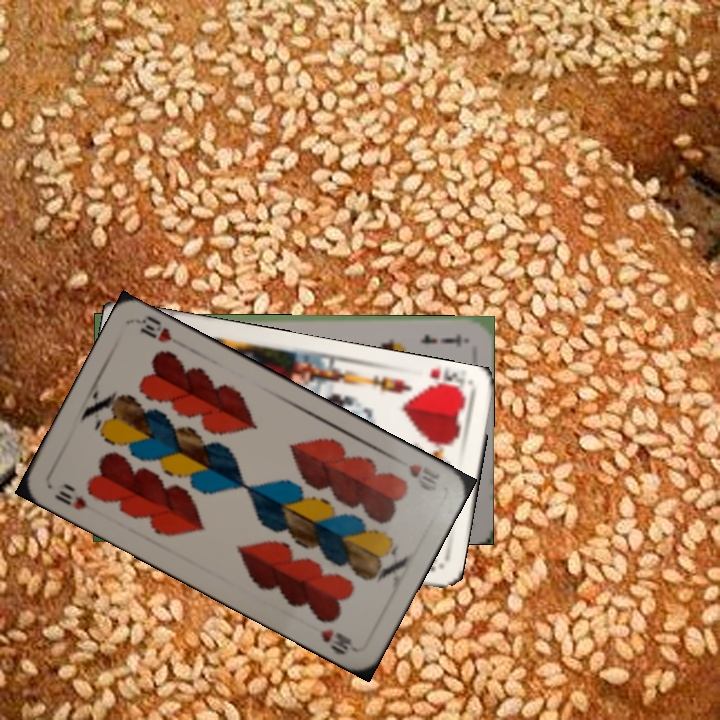E7: (416, 330, 464, 350)
H10: (404, 459, 443, 487), (50, 486, 90, 513)
HK: (418, 365, 468, 398)
